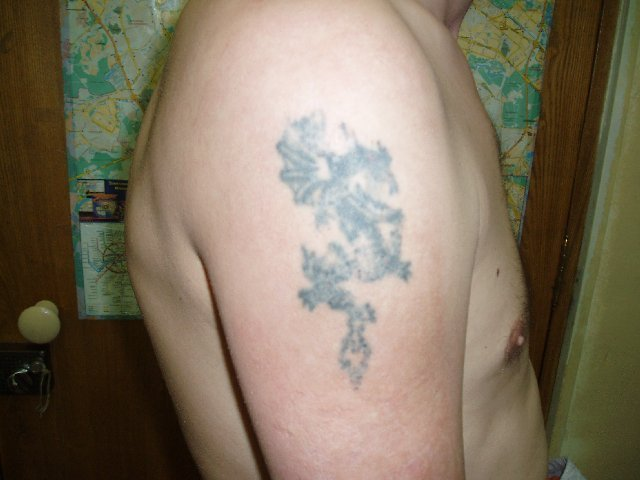tatu6_drakon: (258, 88, 431, 403)
